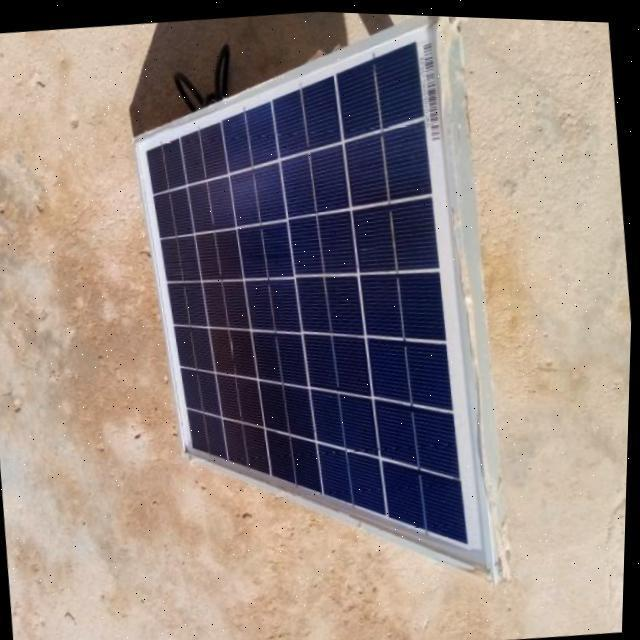Normal Solar Panel: (114, 4, 511, 604)
